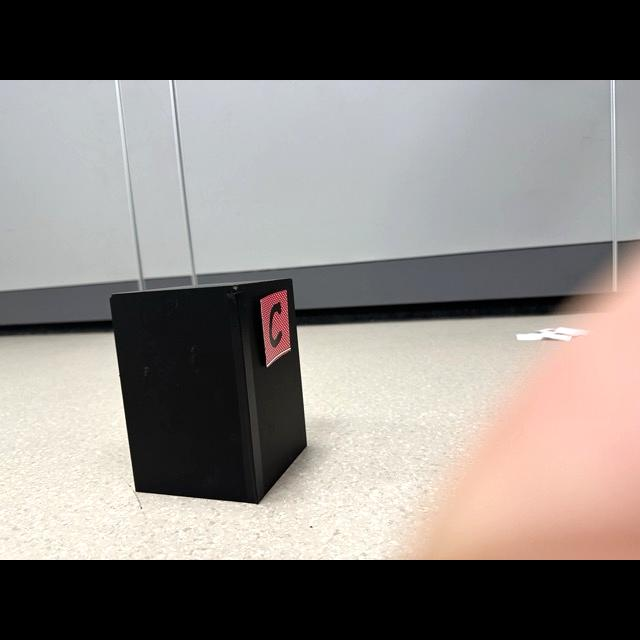C: (268, 302, 282, 347)
